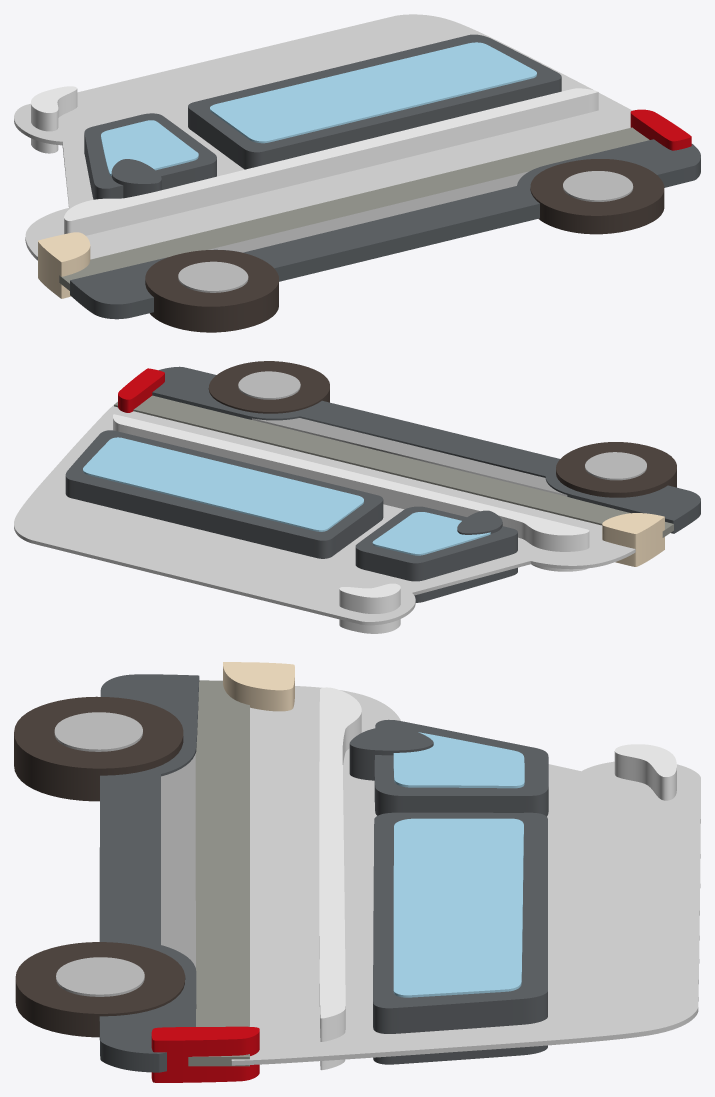
Rendered from emoji_u1f690.glb.
3 renders of one model, top to bottom at view 1: azimuth 30°, elevation 25°; view 2: azimuth 150°, elevation 25°; view 3: azimuth 270°, elevation 25°, orthographic. The views are drawn at different scales.
Parts seen in each view (by area): view 1: emoji_u1f690; view 2: emoji_u1f690; view 3: emoji_u1f690.
Boxes of the visible parts, left/top/right/bottom form: emoji_u1f690: left=14, top=14, right=700, bottom=332; emoji_u1f690: left=14, top=361, right=700, bottom=633; emoji_u1f690: left=14, top=662, right=700, bottom=1082.
Size of the model in its own units: 0.0346 by 0.0028 by 0.0265.
